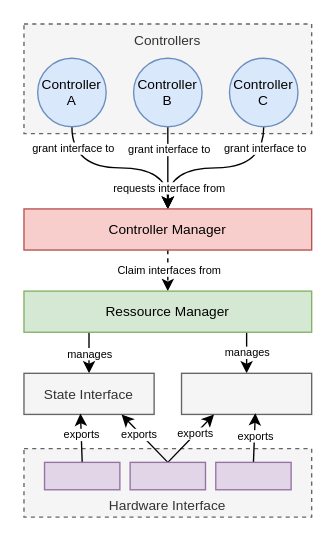
The diagram is 336 pixels wide and 541 high, and some of its shapes have lost their labels. Each missing label, with the centre of its shape:
"Actuator" belongs at point 252,475.
"Command Interface" belongs at point 246,393.
"Sensor" belongs at point 81,475.
"System" belongs at point 167,475.
